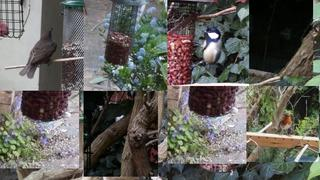great tit: (188, 27, 222, 70)
robin: (276, 113, 292, 136)
starling: (19, 27, 57, 79)
